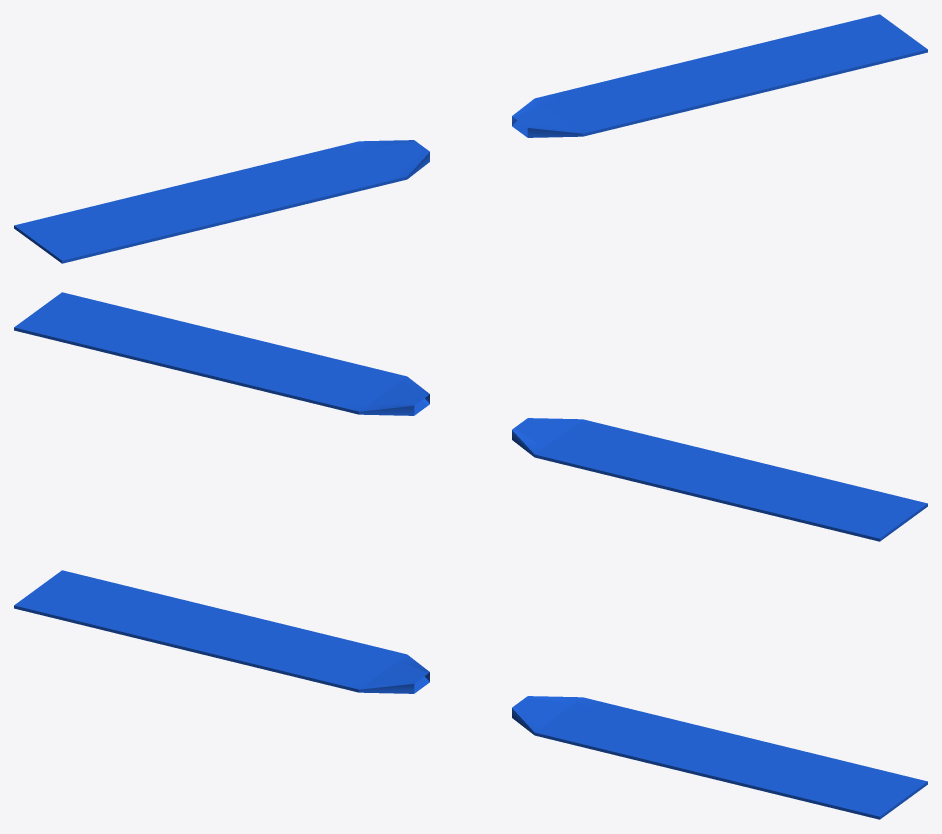
The model's file is satel1.fbx.
The picture shows the model from 3 angles, top to bottom: view 1: azimuth 30°, elevation 25°; view 2: azimuth 150°, elevation 25°; view 3: azimuth 330°, elevation 25°; orthographic projection.
Visible parts, largest first — view 1: solar frame; view 2: solar frame; view 3: solar frame.
Part boxes in pixels (box(x1,y1,x2,y2)): solar frame: box(14, 14, 927, 263); solar frame: box(14, 292, 927, 541); solar frame: box(14, 570, 927, 819).
Bounding box in the file's own units: 1968 × 21.82 × 190.
